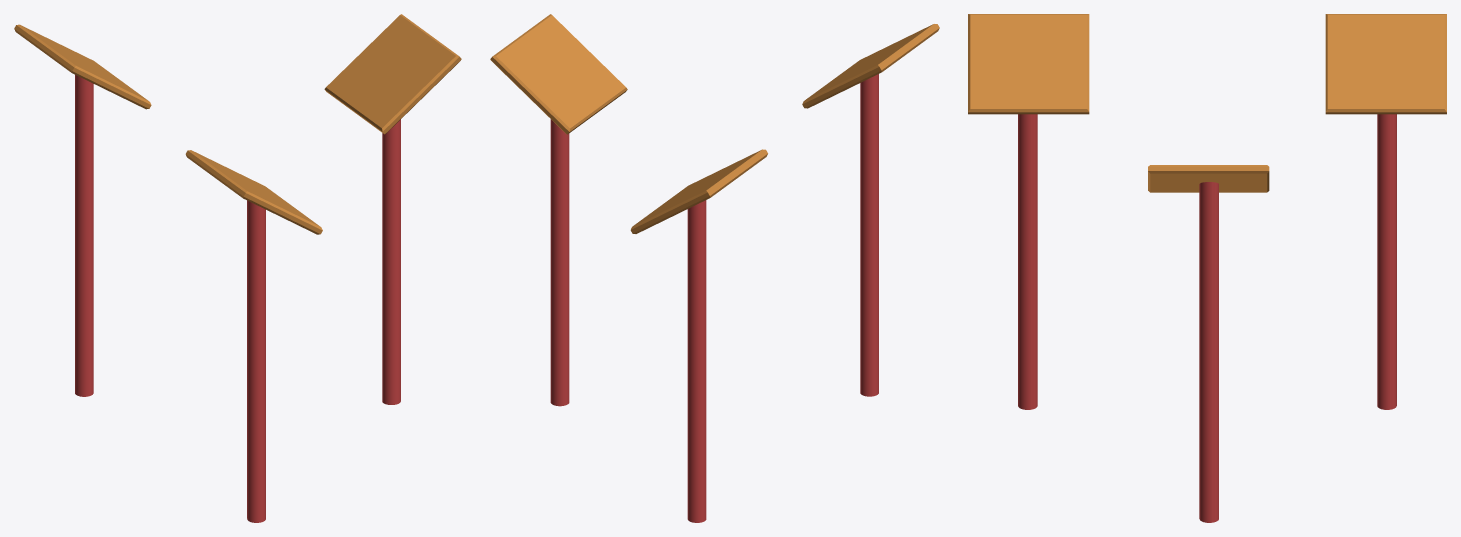
Rendered from Parkour.fbx.
3 views of the same model, side by side, from view 1: azimuth 30°, elevation 25°; view 2: azimuth 150°, elevation 25°; view 3: azimuth 270°, elevation 25° (orthographic). The views are drawn at different scales.
Visible parts, largest first — view 1: Plate02_msh, Post01_msh, Post03_msh, Post02_msh, PLate03_msh, Plate01_msh; view 2: Plate02_msh, Post03_msh, Post01_msh, Post02_msh, PLate03_msh, Plate01_msh; view 3: Plate01_msh, PLate03_msh, Post02_msh, Post01_msh, Post03_msh, Plate02_msh.
Boxes of the visible parts, x1,y1,x2,y2 form: Plate02_msh: [324, 14, 461, 134]; Post01_msh: [247, 200, 265, 522]; Post03_msh: [75, 75, 93, 396]; Post02_msh: [382, 119, 400, 404]; PLate03_msh: [14, 24, 151, 109]; Plate01_msh: [185, 150, 322, 234]; Plate02_msh: [490, 14, 627, 134]; Post03_msh: [687, 200, 706, 522]; Post01_msh: [860, 74, 878, 396]; Post02_msh: [550, 119, 569, 406]; PLate03_msh: [630, 149, 767, 233]; Plate01_msh: [802, 24, 939, 108]; Plate01_msh: [968, 14, 1089, 114]; PLate03_msh: [1325, 14, 1446, 114]; Post02_msh: [1199, 182, 1218, 522]; Post01_msh: [1018, 114, 1037, 409]; Post03_msh: [1377, 114, 1396, 409]; Plate02_msh: [1148, 165, 1269, 192].
Bounding box in the file's own units: 10.65 × 11.94 × 13.91.
